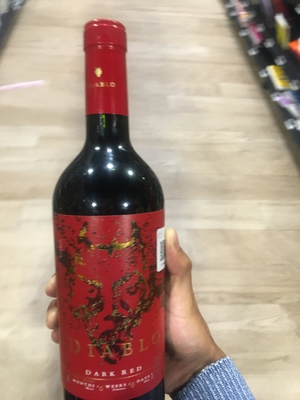diablo dark red: (34, 18, 182, 385)
